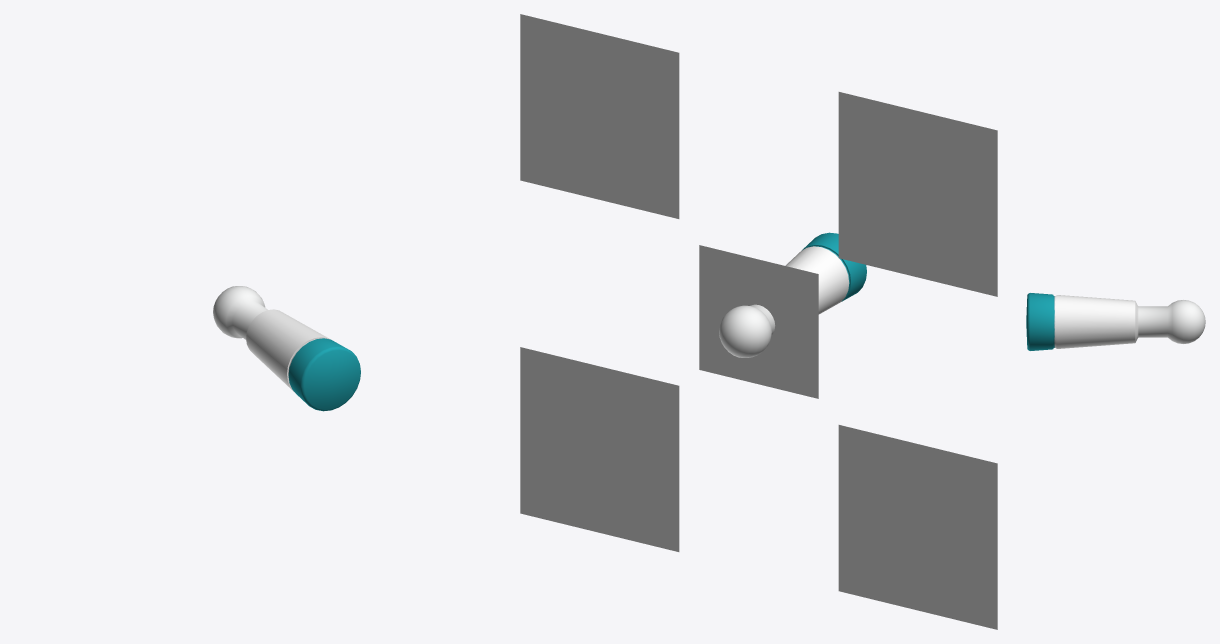
The model's file is switch1.gltf.
The picture shows the model from 3 angles, left to right: view 1: azimuth 30°, elevation 25°; view 2: azimuth 150°, elevation 25°; view 3: azimuth 270°, elevation 25°; orthographic projection. The views are drawn at different scales.
Parts seen in each view (by area): view 1: switch; view 2: 1, 2, 3, 4, 0, switch; view 3: switch.
Boxes of the visible parts, x1=… form: switch: x1=213, y1=286, x2=360, y2=411; 1: x1=838, y1=425, x2=997, y2=629; 2: x1=838, y1=92, x2=997, y2=296; 3: x1=520, y1=347, x2=679, y2=551; 4: x1=520, y1=14, x2=679, y2=218; 0: x1=699, y1=245, x2=818, y2=398; switch: x1=719, y1=232, x2=866, y2=357; switch: x1=1026, y1=293, x2=1205, y2=350.
Bounding box in the file's own units: 0.06 × 0.06 × 0.0232.
